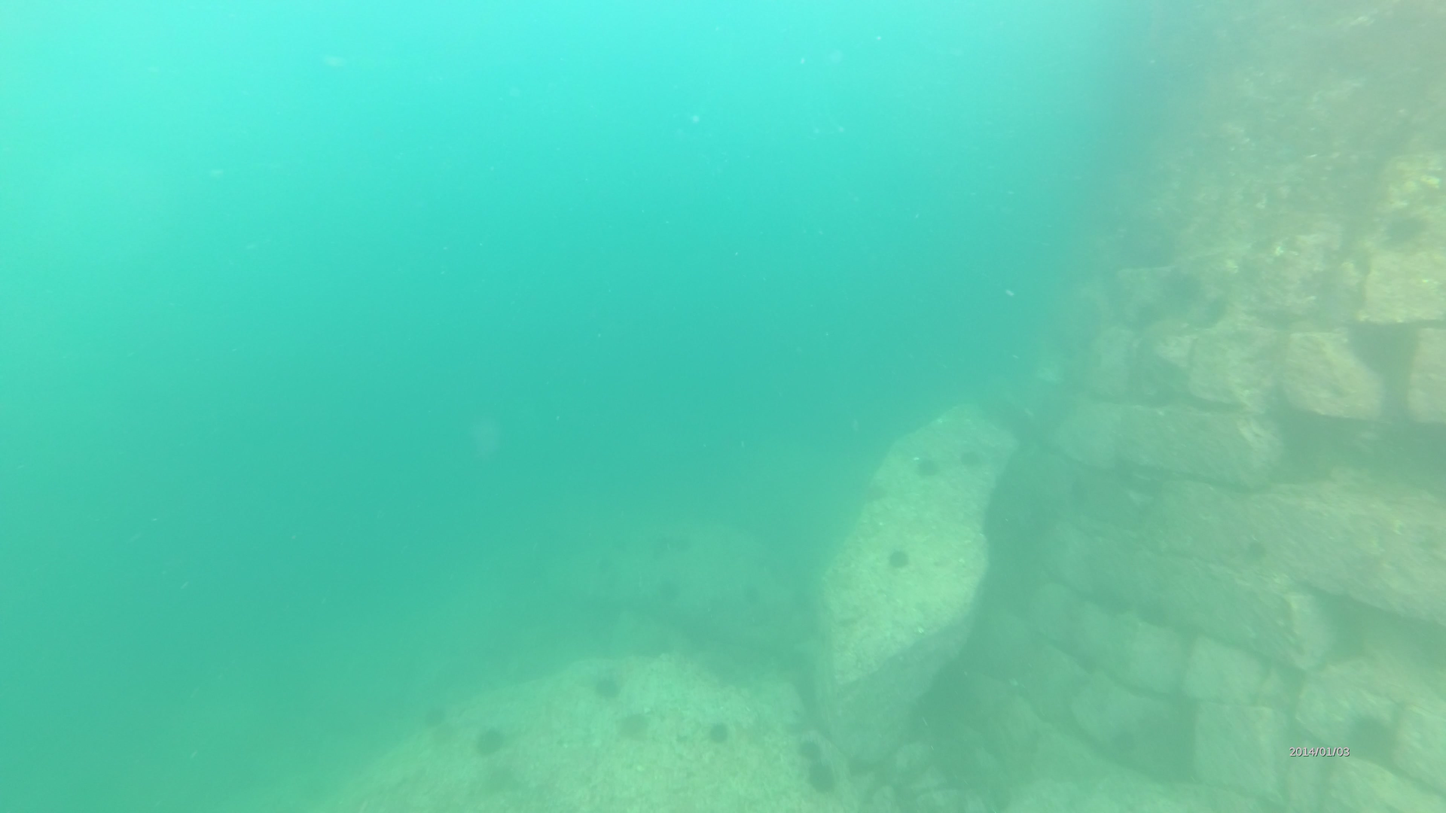starfish: (1344, 708, 1399, 769), (1132, 588, 1175, 629), (804, 759, 843, 797), (473, 727, 514, 759), (616, 711, 653, 743), (910, 447, 939, 484), (884, 543, 917, 570), (797, 739, 834, 761), (859, 482, 891, 505), (594, 674, 625, 697), (704, 719, 732, 744), (961, 448, 989, 472), (426, 706, 450, 728)
